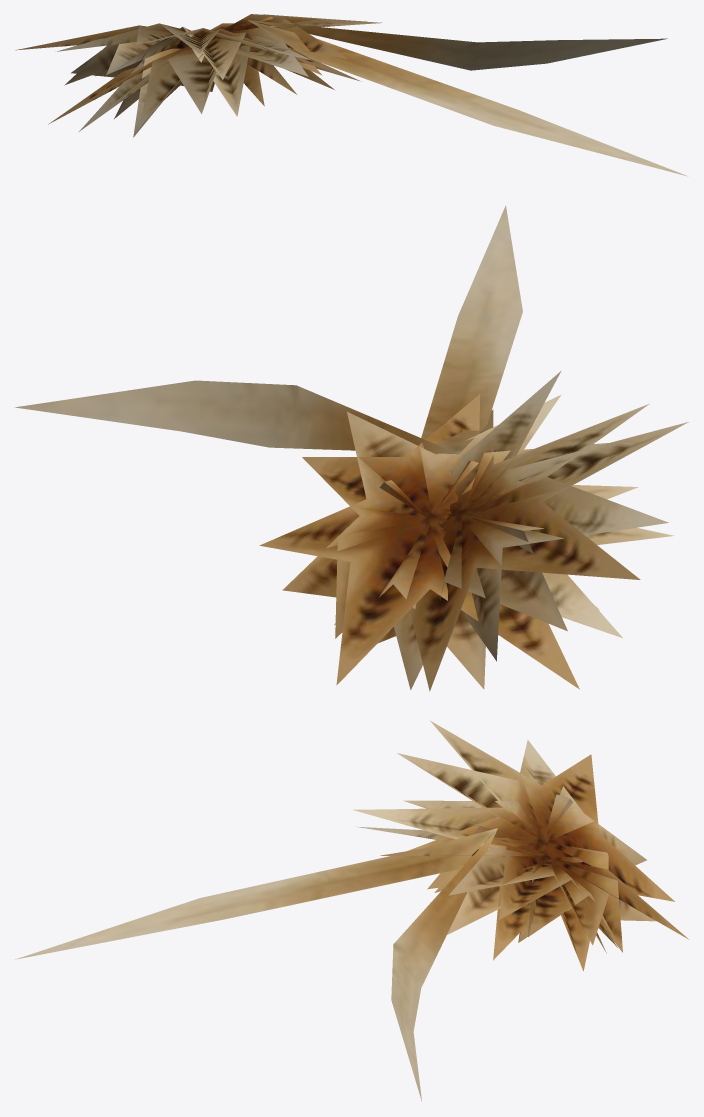
Rendered from tt_m_chr_avt_acc_hat_feathers.glb.
3 views of the same model, one above another, from view 1: azimuth 30°, elevation 25°; view 2: azimuth 150°, elevation 25°; view 3: azimuth 270°, elevation 25° (orthographic). The views are drawn at different scales.
Parts seen in each view (by area): view 1: tt_m_chr_avt_acc_hat_feathers; view 2: tt_m_chr_avt_acc_hat_feathers; view 3: tt_m_chr_avt_acc_hat_feathers.
Boxes of the visible parts, x1,y1,x2,y2 form: tt_m_chr_avt_acc_hat_feathers: (15, 14, 687, 176); tt_m_chr_avt_acc_hat_feathers: (14, 205, 688, 691); tt_m_chr_avt_acc_hat_feathers: (15, 720, 688, 1101).
Bounding box in the file's own units: 4.35 × 1.16 × 4.42.
1 material, 1 textured.
